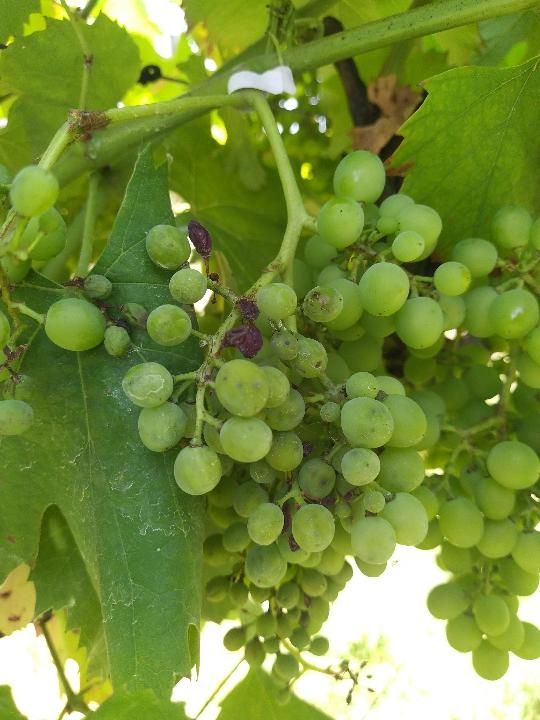grape: (118, 150, 471, 587)
